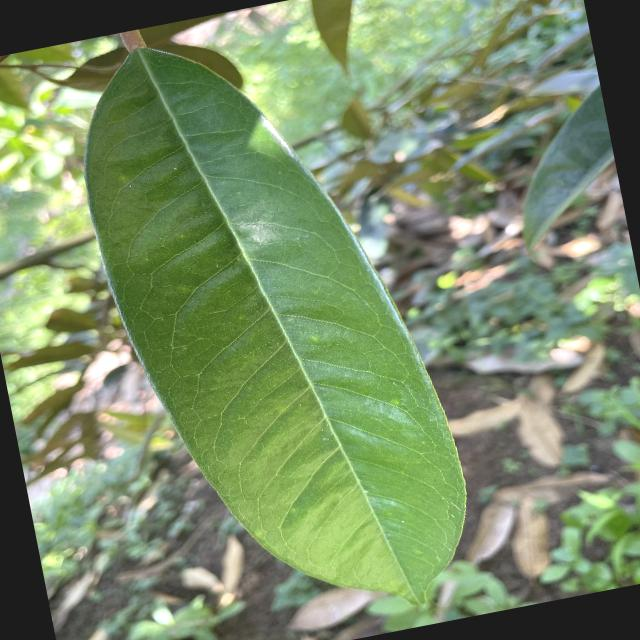No Disease: (54, 0, 497, 639)
